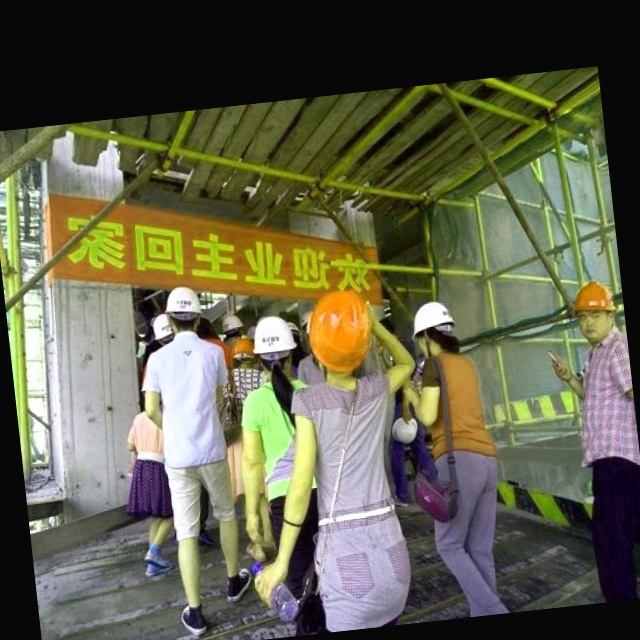Con_Casco: (567, 277, 622, 351)
Sin_Chaleco: (146, 330, 230, 466)
